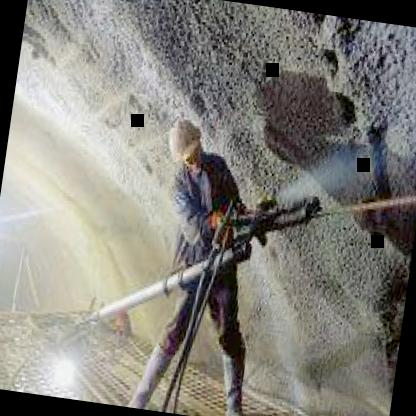helmet: (162, 114, 210, 176)
